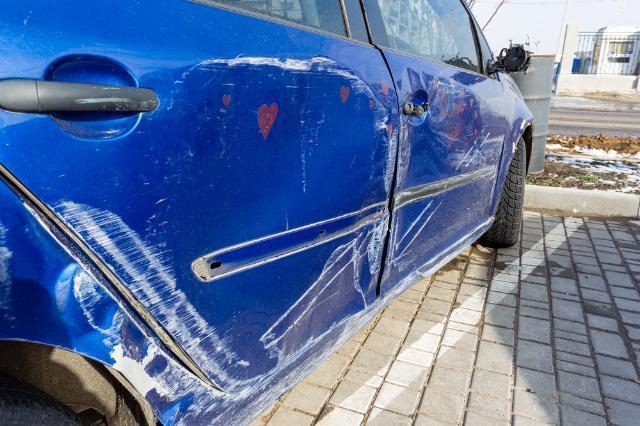dent: (150, 70, 387, 333), (428, 74, 451, 120)
rub: (45, 53, 397, 395), (389, 134, 503, 274)
scratch: (74, 264, 383, 426), (0, 223, 15, 324)
